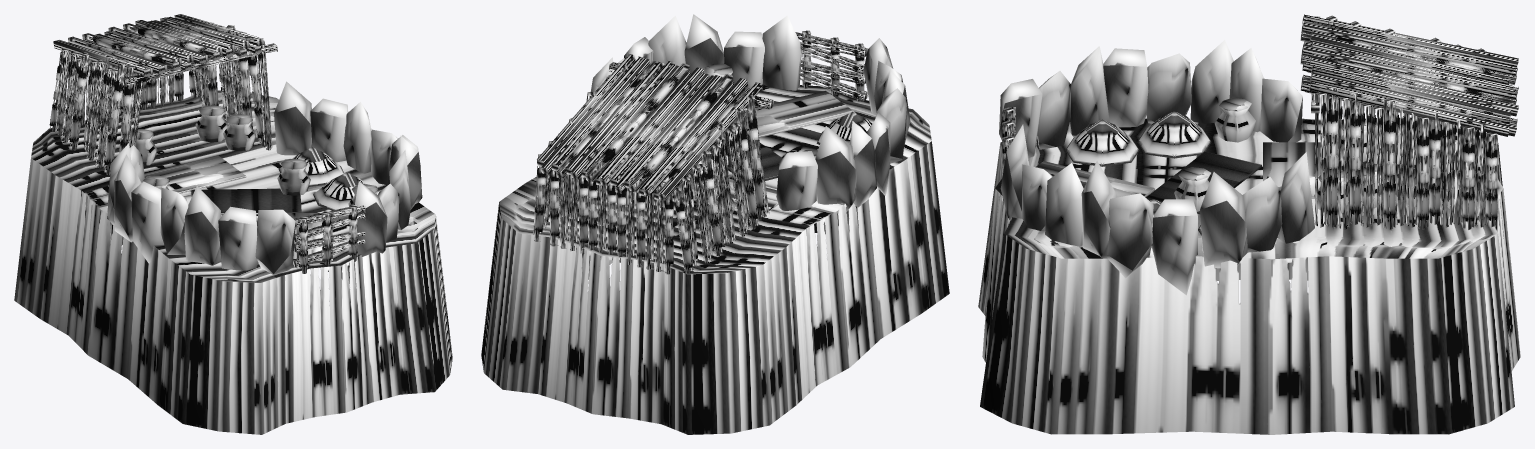
Rendered from corral.dae.
3 views of the same model, side by side, from view 1: azimuth 30°, elevation 25°; view 2: azimuth 150°, elevation 25°; view 3: azimuth 270°, elevation 25° (orthographic). The views are drawn at different scales.
Visible parts, largest first — view 1: corral; view 2: corral; view 3: corral.
Part boxes in pixels (x1=…): corral: x1=14, y1=14, x2=452, y2=434; corral: x1=481, y1=14, x2=949, y2=434; corral: x1=978, y1=14, x2=1520, y2=434.
Size of the model in its own units: 12.37 by 18.15 by 11.26.
